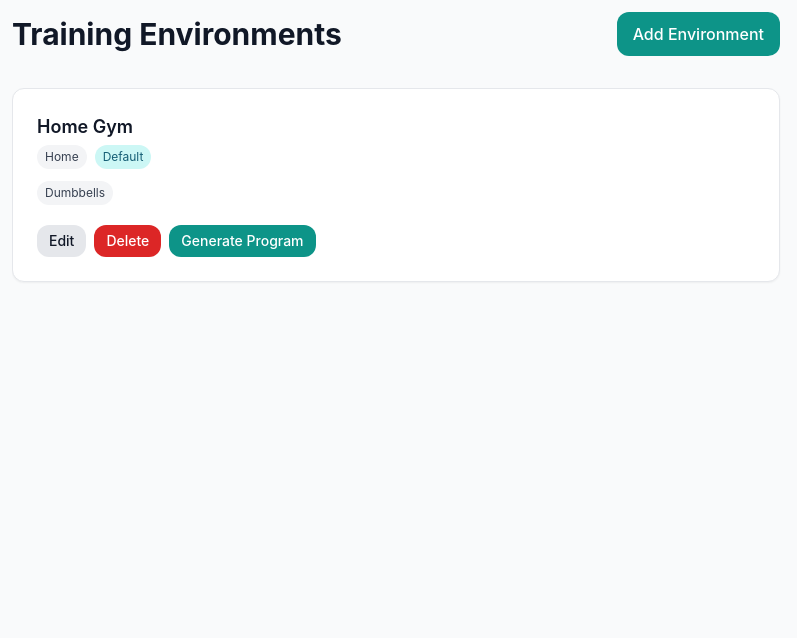
EnvironmentsPage › should edit an existing environment
Check: the heading "Home Gym" is shown, box [37,116,133,137]
Click the button "Edit" at (62, 241), box [37,225,86,257]
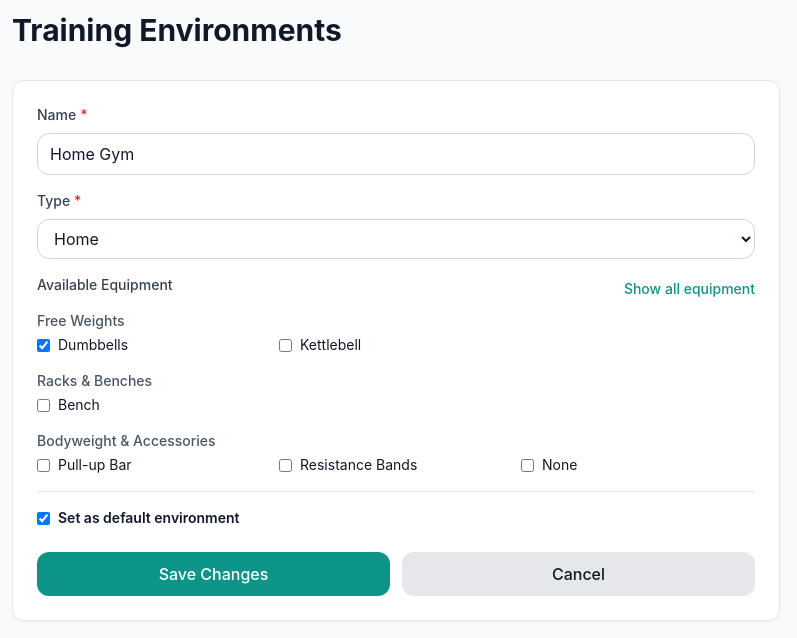
Replace the text in the field labelled "Name*" with "Updated Gym" at (396, 154), box [37,133,755,175]
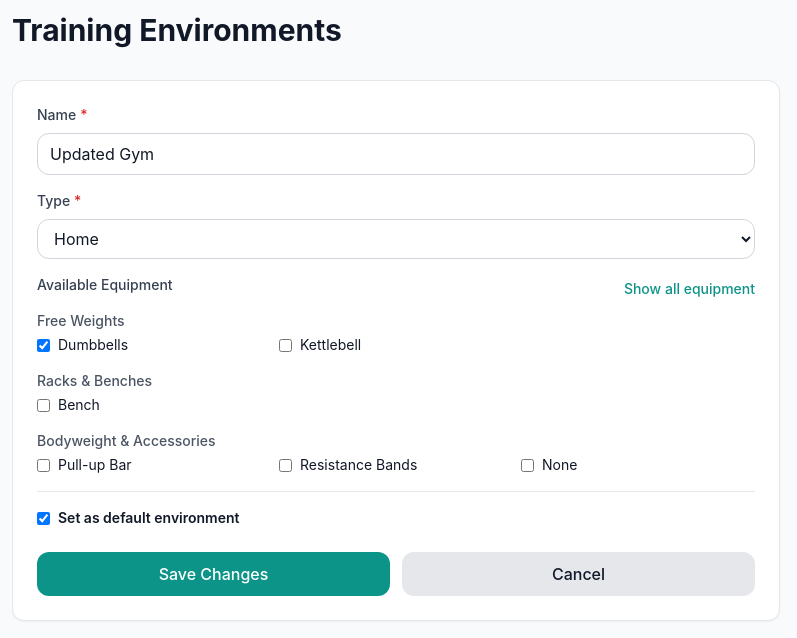
Click the button "Save Changes" at (214, 574), box [37,552,390,596]
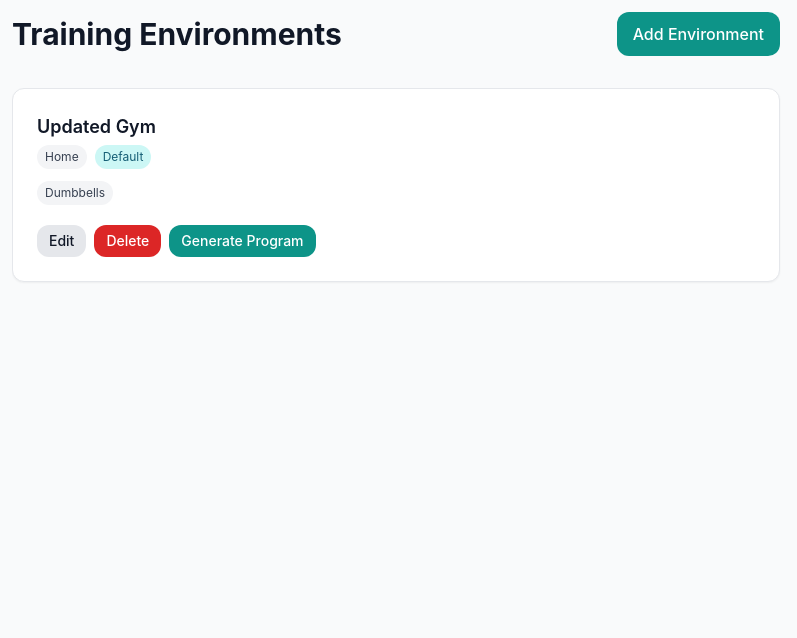
Check: the heading "Updated Gym" is shown, box [37,113,156,141]
